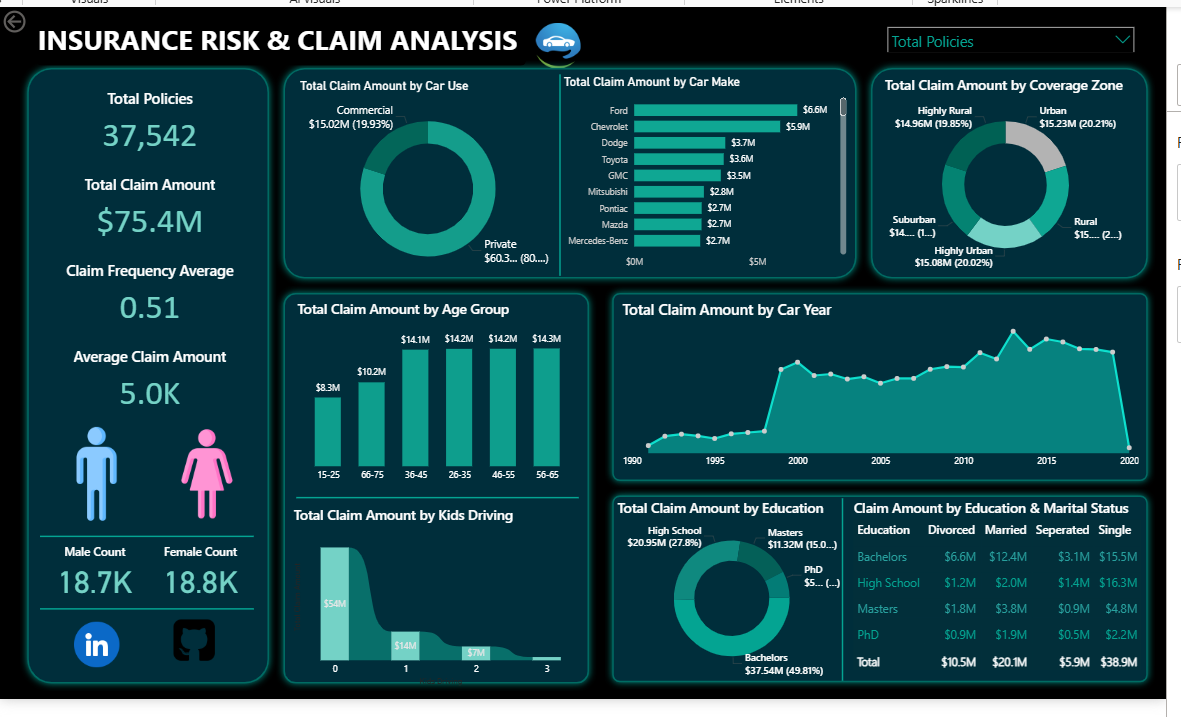

Layout of this report page (visuals, bound fields, positions):
{"tool":"powerbi","page":{"name":"Page 1","canvas":[1600,950],"ordinal":0},"visuals":[{"type":"textbox","box":[20.6,5.1,715.3,94.3],"z":0},{"type":"shape","box":[27.4,73.8,351.6,864.5],"z":1000},{"type":"cardVisual","fields":{"Data":["insurance_data_car.Total Policies","insurance_data_car.Total Claim Amount","insurance_data_car.Claim frequency Avg","insurance_data_car.Average Claim Amount"]},"box":[61.7,97.8,288.2,476.8],"z":2000},{"type":"image","box":[689.5,17.2,152.7,72],"z":3000},{"type":"image","box":[217.8,562.6,132.1,156.1],"z":4000},{"type":"image","box":[63.5,562.6,138.9,156.1],"z":5000},{"type":"cardVisual","fields":{"Data":["insurance_data_car.Male Count","insurance_data_car.Female Count"]},"box":[56.6,718.7,293.3,108.1],"z":6000},{"type":"shape","box":[379.1,73.8,806.2,308.7],"z":7000},{"type":"slicer","fields":{"Values":["Parameter.Parameter"]},"box":[1207.6,17.2,358.5,44.6],"z":8000},{"type":"donutChart","fields":{"Category":["insurance_data_car.Car Use"],"Y":["insurance_data_car.Total Claim Amount"]},"box":[406.5,97.8,361.9,284.7],"z":9000},{"type":"clusteredBarChart","fields":{"Y":["insurance_data_car.Total Claim Amount"],"Category":["insurance_data_car.Car Make"]},"box":[768.4,92.6,397.9,276.2],"z":10000},{"type":"shape","box":[1185.3,73.8,399.7,308.7],"z":11000},{"type":"donutChart","fields":{"Y":["insurance_data_car.Total Claim Amount"],"Category":["insurance_data_car.Coverage Zone"]},"box":[1209.3,94.3,341.3,274.4],"z":12000},{"type":"shape","box":[379.1,382.5,439.1,555.7],"z":13000},{"type":"clusteredColumnChart","fields":{"Category":["insurance_data_car.Age Group"],"Y":["insurance_data_car.Total Claim Amount"]},"box":[403.1,401.4,396.2,259],"z":14000},{"type":"ribbonChart","fields":{"Category":["insurance_data_car.Kids Driving"],"Y":["insurance_data_car.Total Claim Amount"]},"box":[397.9,684.4,396.2,252.1],"z":15000},{"type":"shape","box":[830.2,382.5,754.7,277.9],"z":16000},{"type":"shape","box":[830.2,660.4,754.7,276.2],"z":17000},{"type":"areaChart","fields":{"Y":["insurance_data_car.Total Claim Amount"],"Category":["insurance_data_car.Car Year"]},"box":[849.1,401.4,718.7,240.1],"z":18000},{"type":"donutChart","fields":{"Y":["insurance_data_car.Total Claim Amount"],"Category":["insurance_data_car.Education"]},"box":[842.2,674.1,324.2,250.4],"z":19000},{"type":"pivotTable","title":"Claim Amount by Education & Marital Status","fields":{"Rows":["insurance_data_car.Education"],"Values":["insurance_data_car.Total Claim Amount"],"Columns":["insurance_data_car.Marital Status"]},"box":[1166.4,674.1,415.1,250.4],"z":20000},{"type":"actionButton","box":[0,0,100,40],"z":21000},{"type":"shape","box":[406.5,646.7,387.7,53.2],"z":22000},{"type":"shape","box":[574.6,92.6,387.7,276.2],"z":23000},{"type":"shape","box":[962.3,674.1,387.7,250.4],"z":24000},{"type":"shape","box":[54.9,799.3,293.3,53.2],"z":25000},{"type":"shape","box":[54.9,699.8,293.3,53.2],"z":26000},{"type":"shape","box":[49.7,6.9,672.4,73.8],"z":27000},{"type":"image","box":[94.3,838.8,77.2,72],"z":28000},{"type":"image","box":[233.3,826.8,66.9,84],"z":29000}]}

Visuals, with their boxes on the page's 1600x950 design canvas (x1, y1, x2, y2). These are canvas units, not pixel positions in the 1181x717 screenshot, which may show the page scaled, cropped or inside an application window:
textbox: x1=21, y1=5, x2=736, y2=99
shape: x1=27, y1=74, x2=379, y2=938
cardVisual - insurance_data_car.Total Policies x insurance_data_car.Total Claim Amount: x1=62, y1=98, x2=350, y2=575
image: x1=690, y1=17, x2=842, y2=89
image: x1=218, y1=563, x2=350, y2=719
image: x1=64, y1=563, x2=202, y2=719
cardVisual - insurance_data_car.Male Count x insurance_data_car.Female Count: x1=57, y1=719, x2=350, y2=827
shape: x1=379, y1=74, x2=1185, y2=382
slicer - Parameter.Parameter: x1=1208, y1=17, x2=1566, y2=62
donutChart - insurance_data_car.Car Use x insurance_data_car.Total Claim Amount: x1=406, y1=98, x2=768, y2=382
clusteredBarChart - insurance_data_car.Total Claim Amount x insurance_data_car.Car Make: x1=768, y1=93, x2=1166, y2=369
shape: x1=1185, y1=74, x2=1585, y2=382
donutChart - insurance_data_car.Total Claim Amount x insurance_data_car.Coverage Zone: x1=1209, y1=94, x2=1551, y2=369
shape: x1=379, y1=382, x2=818, y2=938
clusteredColumnChart - insurance_data_car.Age Group x insurance_data_car.Total Claim Amount: x1=403, y1=401, x2=799, y2=660
ribbonChart - insurance_data_car.Kids Driving x insurance_data_car.Total Claim Amount: x1=398, y1=684, x2=794, y2=936
shape: x1=830, y1=382, x2=1585, y2=660
shape: x1=830, y1=660, x2=1585, y2=937
areaChart - insurance_data_car.Total Claim Amount x insurance_data_car.Car Year: x1=849, y1=401, x2=1568, y2=642
donutChart - insurance_data_car.Total Claim Amount x insurance_data_car.Education: x1=842, y1=674, x2=1166, y2=924
"Claim Amount by Education & Marital Status" pivotTable: x1=1166, y1=674, x2=1582, y2=924
actionButton: x1=0, y1=0, x2=100, y2=40
shape: x1=406, y1=647, x2=794, y2=700
shape: x1=575, y1=93, x2=962, y2=369
shape: x1=962, y1=674, x2=1350, y2=924
shape: x1=55, y1=799, x2=348, y2=852
shape: x1=55, y1=700, x2=348, y2=753
shape: x1=50, y1=7, x2=722, y2=81
image: x1=94, y1=839, x2=172, y2=911
image: x1=233, y1=827, x2=300, y2=911
